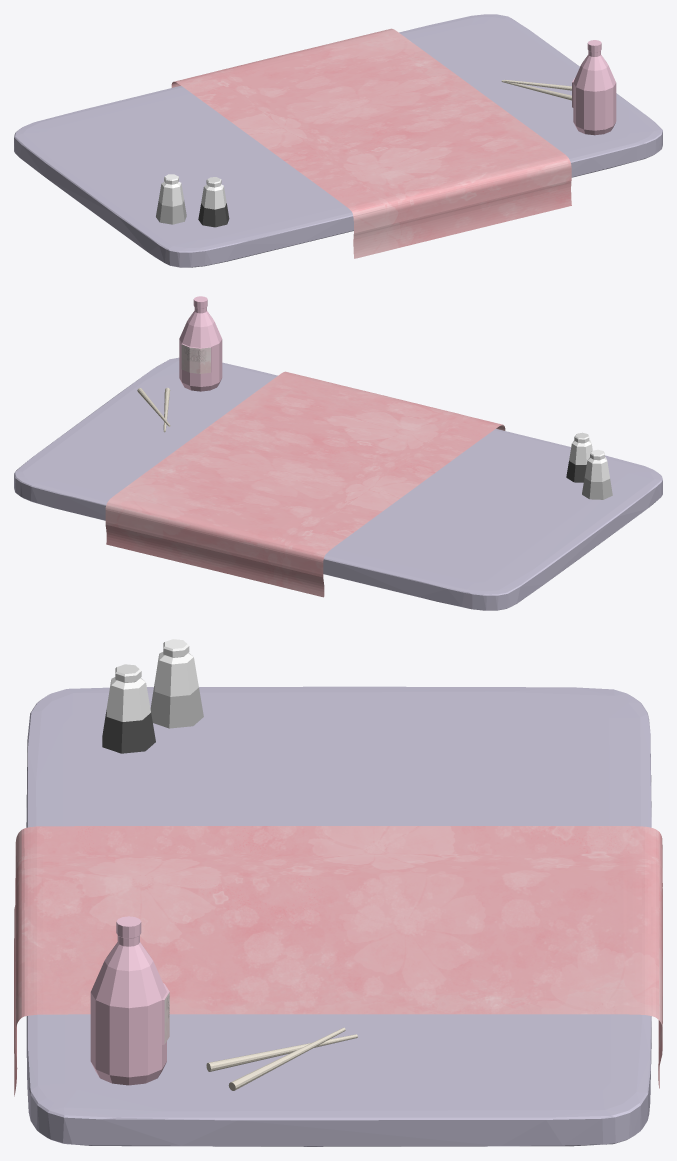
File: table.fbx
The picture shows the model from 3 angles, top to bottom: view 1: azimuth 30°, elevation 25°; view 2: azimuth 150°, elevation 25°; view 3: azimuth 270°, elevation 25°; orthographic projection. The views are drawn at different scales.
Parts seen in each view (by area): view 1: Plane; view 2: Plane; view 3: Plane.
Boxes of the visible parts, x1,y1,x2,y2 form: Plane: (14, 14, 662, 267); Plane: (14, 296, 662, 610); Plane: (14, 639, 662, 1146).
Size of the model in its own units: 1164 by 280 by 737.
